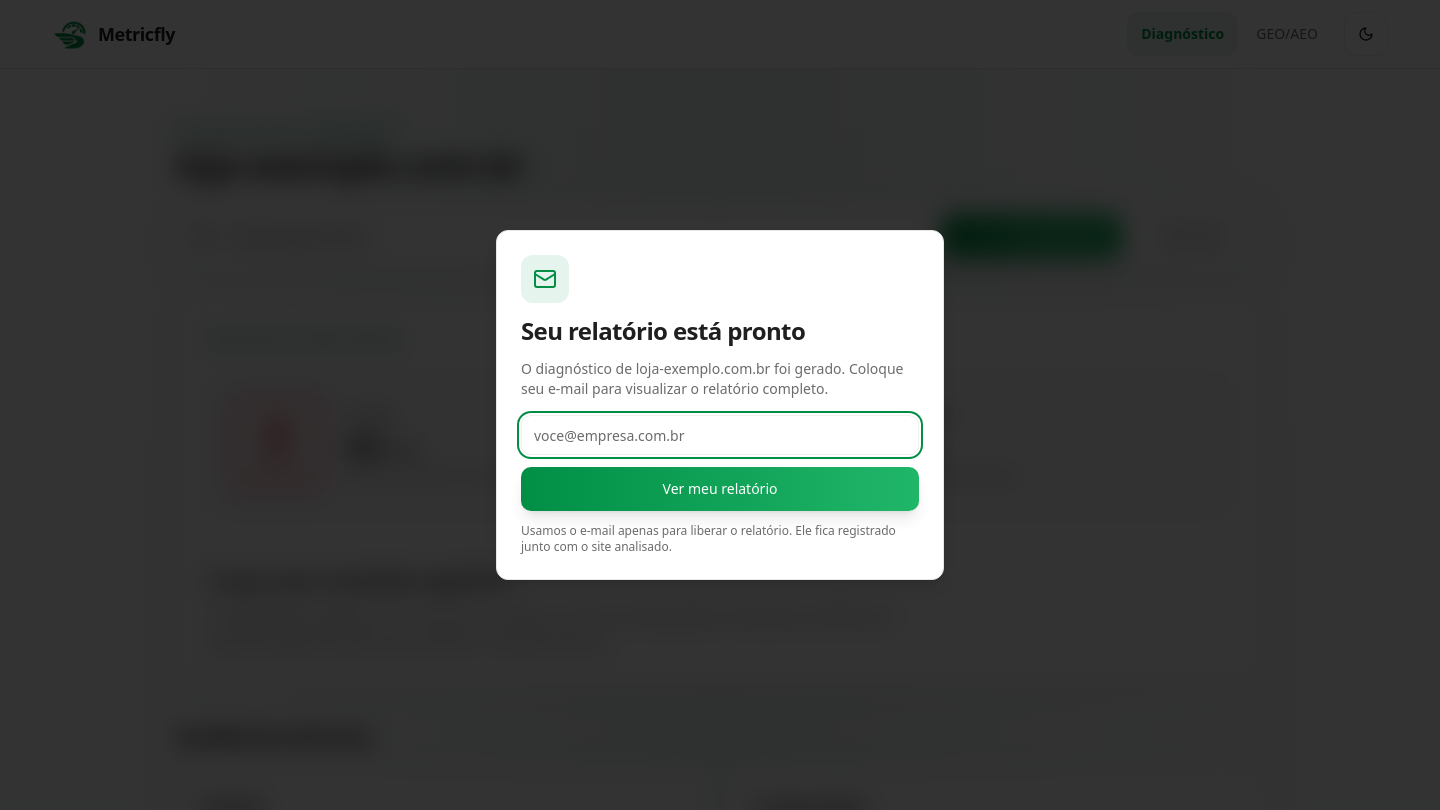
Test: report e-mail gate › rejects an invalid e-mail without releasing the report
The image size is (1440, 810).
Type "sem-arroba" into the field named "Seu e-mail" at (720, 435), box [521,415,919,455]
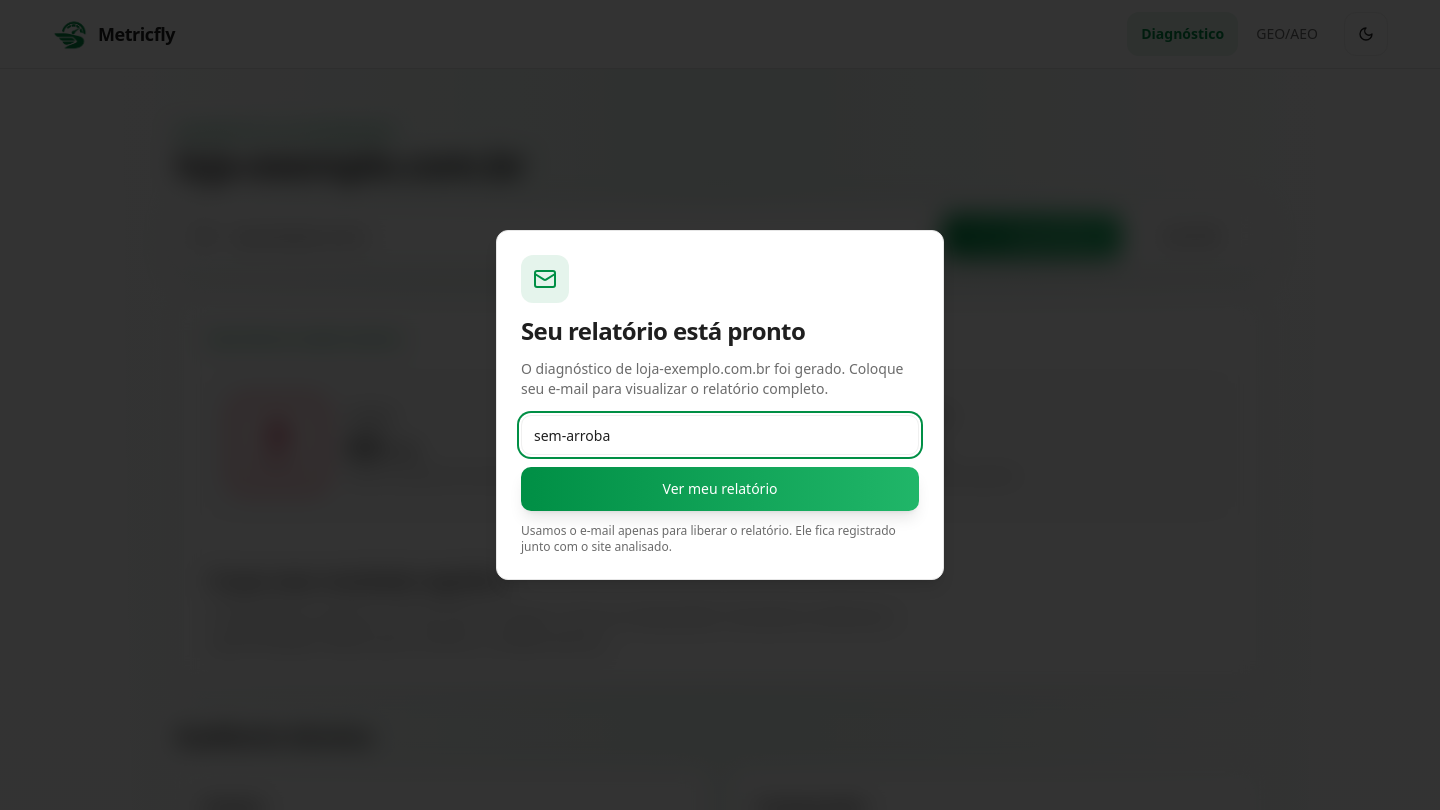
Click the button "Ver meu relatório" at (720, 489), box [521,467,919,511]
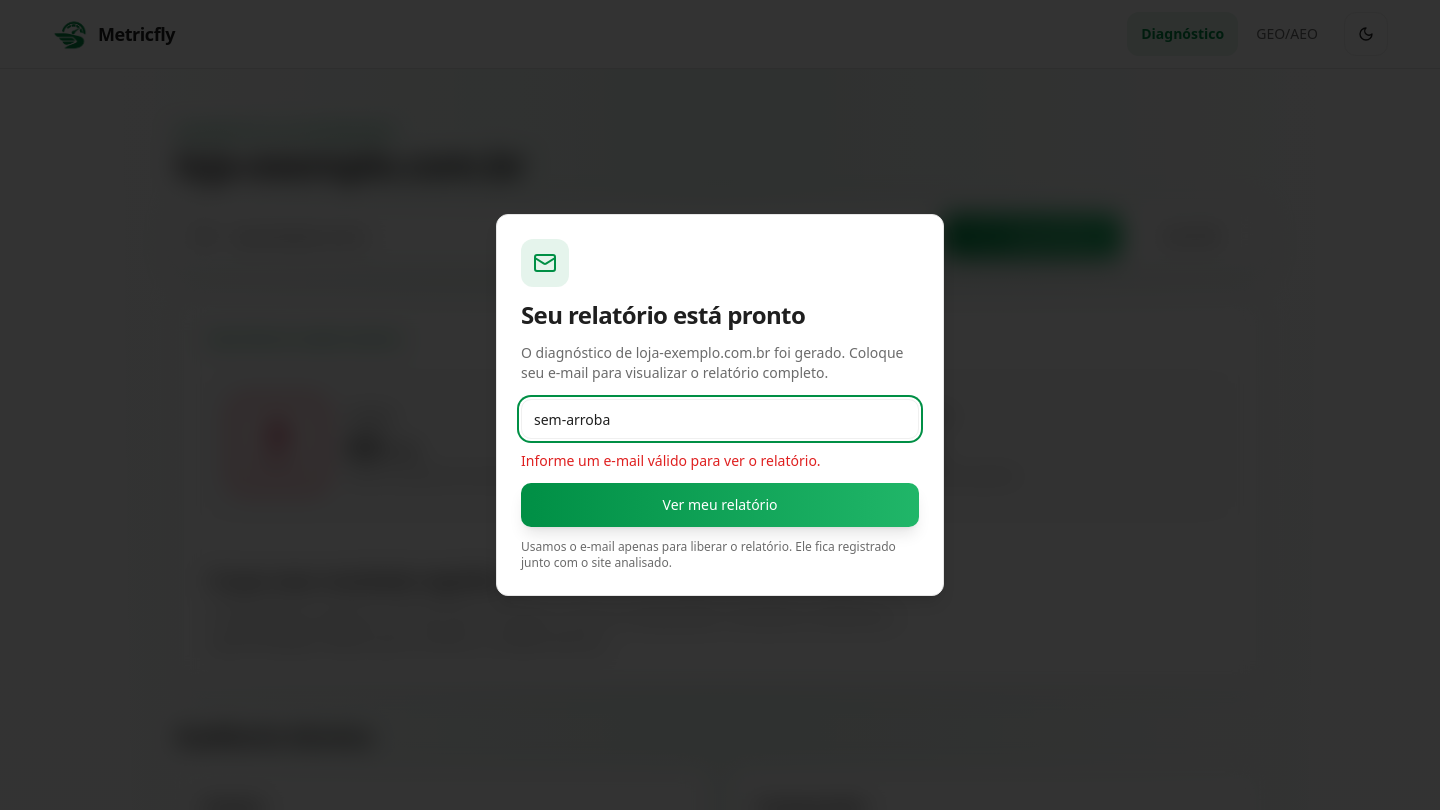
Expected: the dialog is shown, [496,214,944,596]
Expected: the message shows "Informe um e-mail válido", [521,451,821,470]
